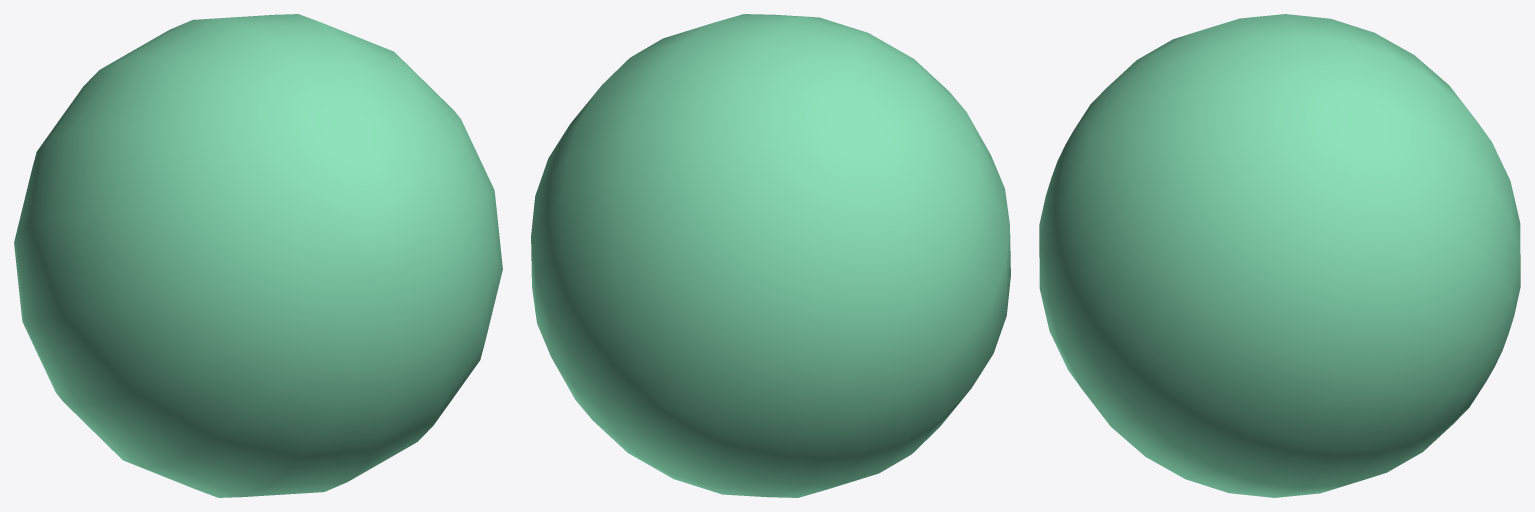
The picture shows the model from 3 angles, left to right: view 1: azimuth 30°, elevation 25°; view 2: azimuth 150°, elevation 25°; view 3: azimuth 270°, elevation 25°; orthographic projection.
Parts seen in each view (by area): view 1: orb6.010; view 2: orb6.010; view 3: orb6.010.
Part boxes in pixels (<box>): orb6.010: <box>14,14,502,497</box>; orb6.010: <box>531,14,1010,497</box>; orb6.010: <box>1039,14,1520,497</box>.
Size of the model in its own units: 0.3982 by 0.3984 by 0.3968.
